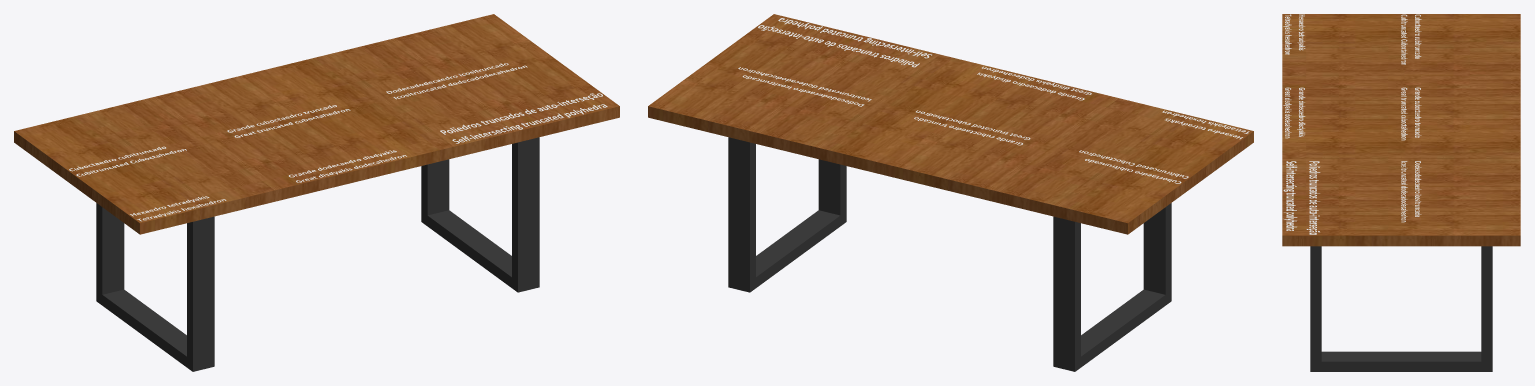
The model's file is selfinterTrunc3.glb.
3 renders of one model, left to right at view 1: azimuth 30°, elevation 25°; view 2: azimuth 150°, elevation 25°; view 3: azimuth 270°, elevation 25°, orthographic. The views are drawn at different scales.
Parts seen in each view (by area): view 1: object 1, Composant#1 (×2), Poliedros trunca, Dodecadodecaedro, Grande cuboctaed, Grande dodecaedr#1; view 2: object 1, Composant#1 (×2), Poliedros trunca, Dodecadodecaedro, Grande dodecaedr#1, Grande cuboctaed, Cuboctaedro cubi; view 3: object 1, Composant#1, Poliedros trunca, Dodecadodecaedro, Grande cuboctaed, Grande dodecaedr#1, Cuboctaedro cubi, Hexaedro tetrady.
Part boxes in pixels (left/top/right/bottom): object 1: left=14, top=14, right=619, bottom=234; Composant#1 (×2): left=96, top=137, right=539, bottom=371; Poliedros trunca: left=440, top=93, right=607, bottom=143; Dodecadodecaedro: left=386, top=63, right=527, bottom=99; Grande cuboctaed: left=227, top=105, right=350, bottom=137; Grande dodecaedr#1: left=289, top=150, right=406, bottom=182; object 1: left=648, top=14, right=1253, bottom=234; Composant#1 (×2): left=728, top=137, right=1171, bottom=371; Poliedros trunca: left=758, top=18, right=931, bottom=67; Dodecadodecaedro: left=738, top=67, right=871, bottom=106; Grande dodecaedr#1: left=977, top=66, right=1091, bottom=100; Grande cuboctaed: left=914, top=110, right=1030, bottom=145; Cuboctaedro cubi: left=1079, top=150, right=1188, bottom=183; object 1: left=1282, top=14, right=1520, bottom=246; Composant#1: left=1310, top=246, right=1492, bottom=371; Poliedros trunca: left=1283, top=161, right=1320, bottom=234; Dodecadodecaedro: left=1401, top=161, right=1421, bottom=222; Grande cuboctaed: left=1401, top=87, right=1421, bottom=140; Grande dodecaedr#1: left=1283, top=87, right=1305, bottom=138; Cuboctaedro cubi: left=1401, top=14, right=1421, bottom=64; Hexaedro tetrady: left=1283, top=14, right=1305, bottom=54.
Bounding box in the file's own units: 2.2 × 0.7711 × 1.
Materials: 3 (1 with a texture image).
